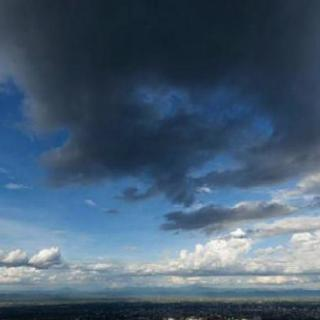Altostratus: (0, 2, 320, 284)
